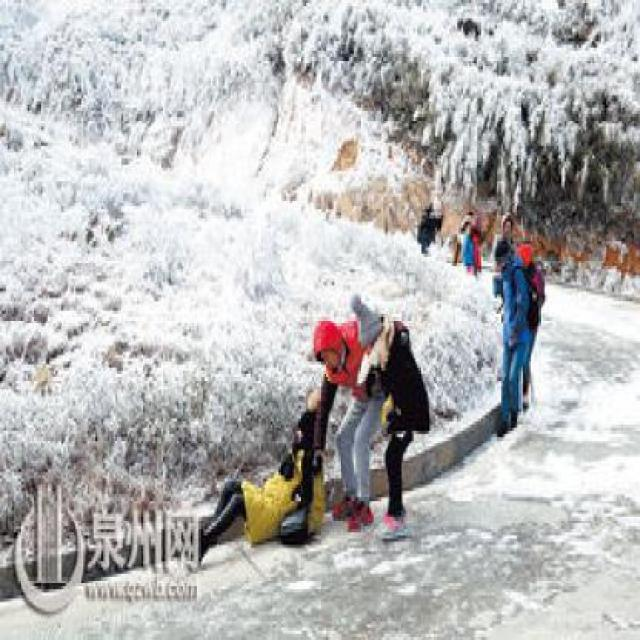fall: (181, 387, 328, 567)
